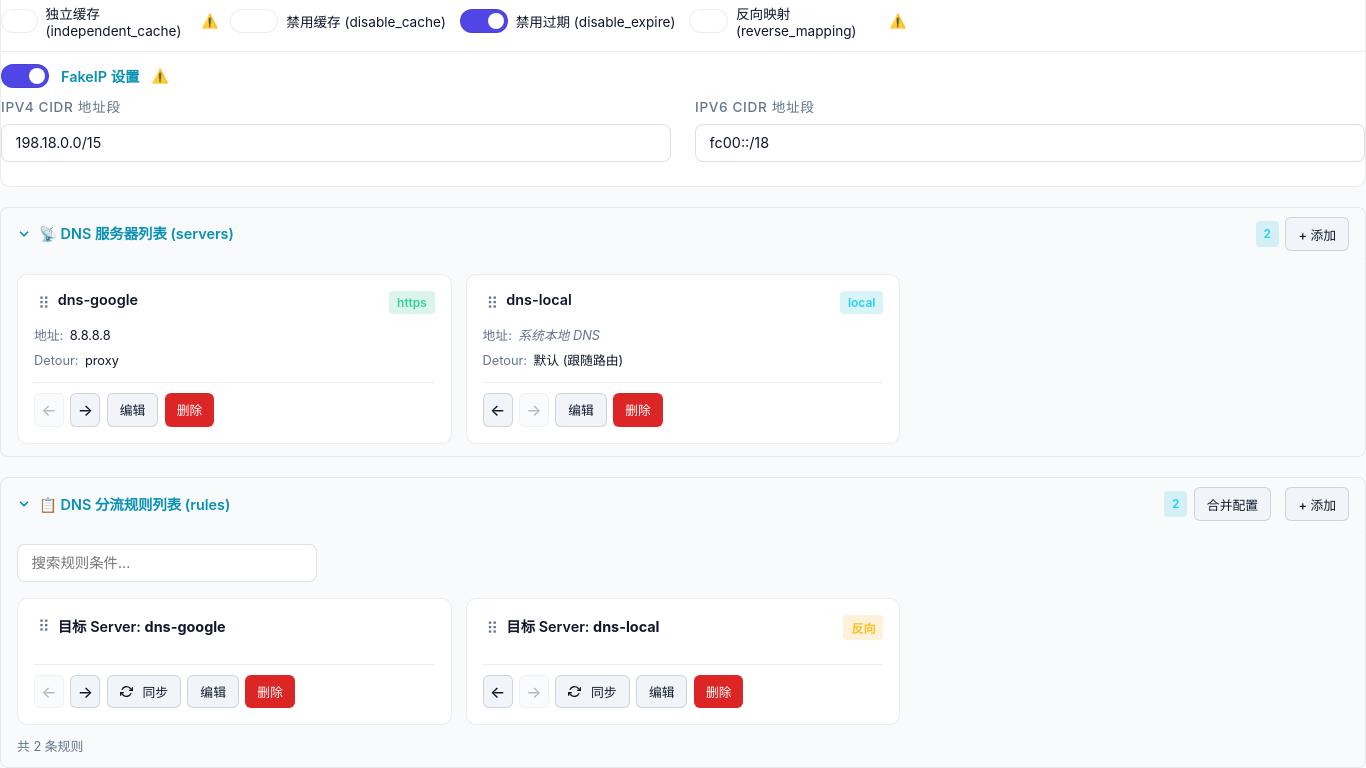
Test: DnsEditor › Search filter › switches to drag mode when search is cleared
(page scrolled)
Step 1. Type "CN" into the field with placeholder "搜索规则条件..." → (167, 563), box [17,544,317,582]
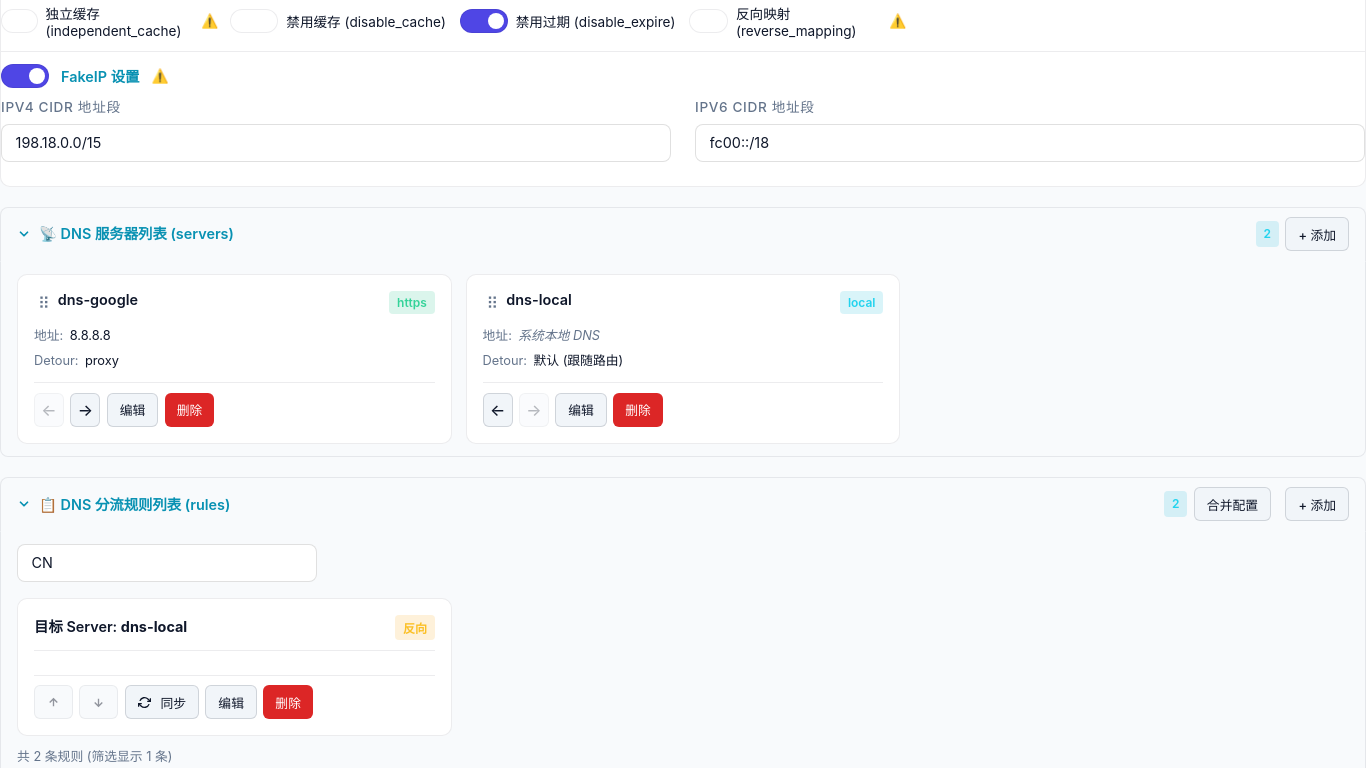
Expected: the number of elements with class "mock-draggable" is 1, [17,274,900,444]
Step 2. Clear the field below "📋 DNS 分流规则列表 (rules)" → (167, 563), box [17,544,317,582]
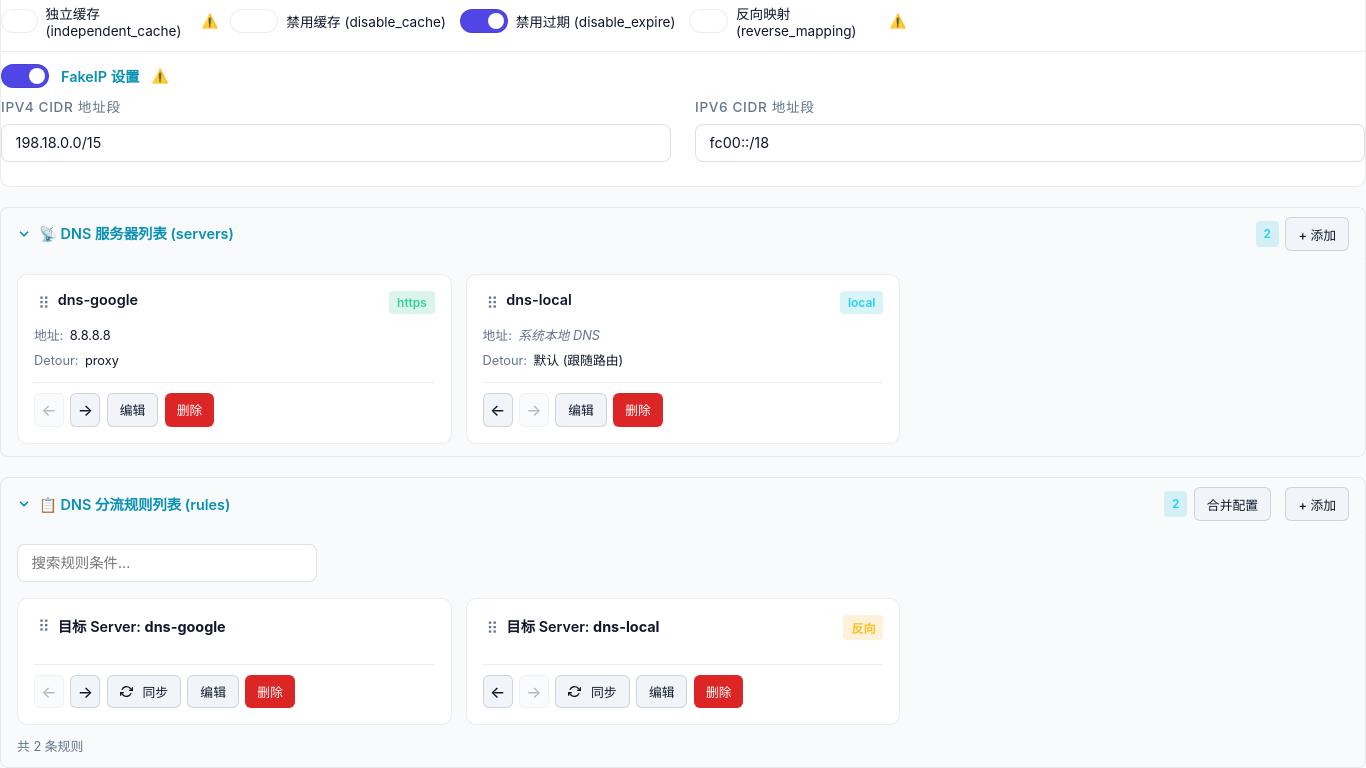
Now the number of elements with class "mock-draggable" is 2, box [17,274,900,444]; [17,598,900,725]
